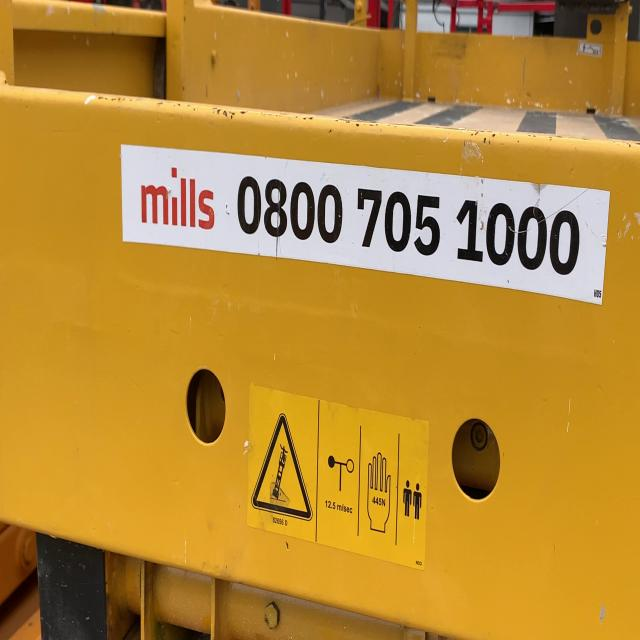Adesivo Longo: (115, 137, 615, 321)
